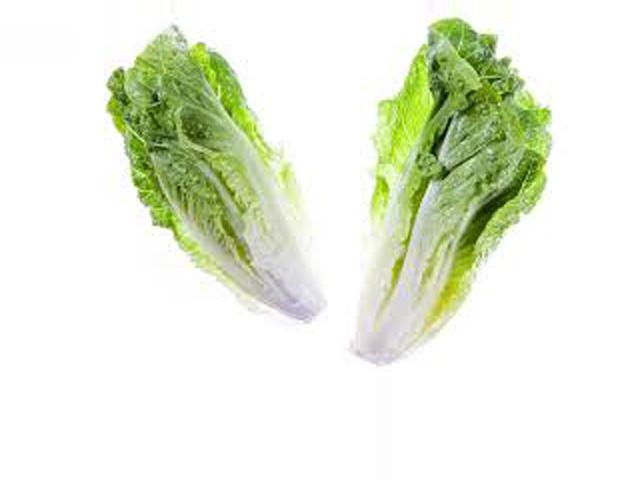lettuce: (344, 62, 602, 286)
